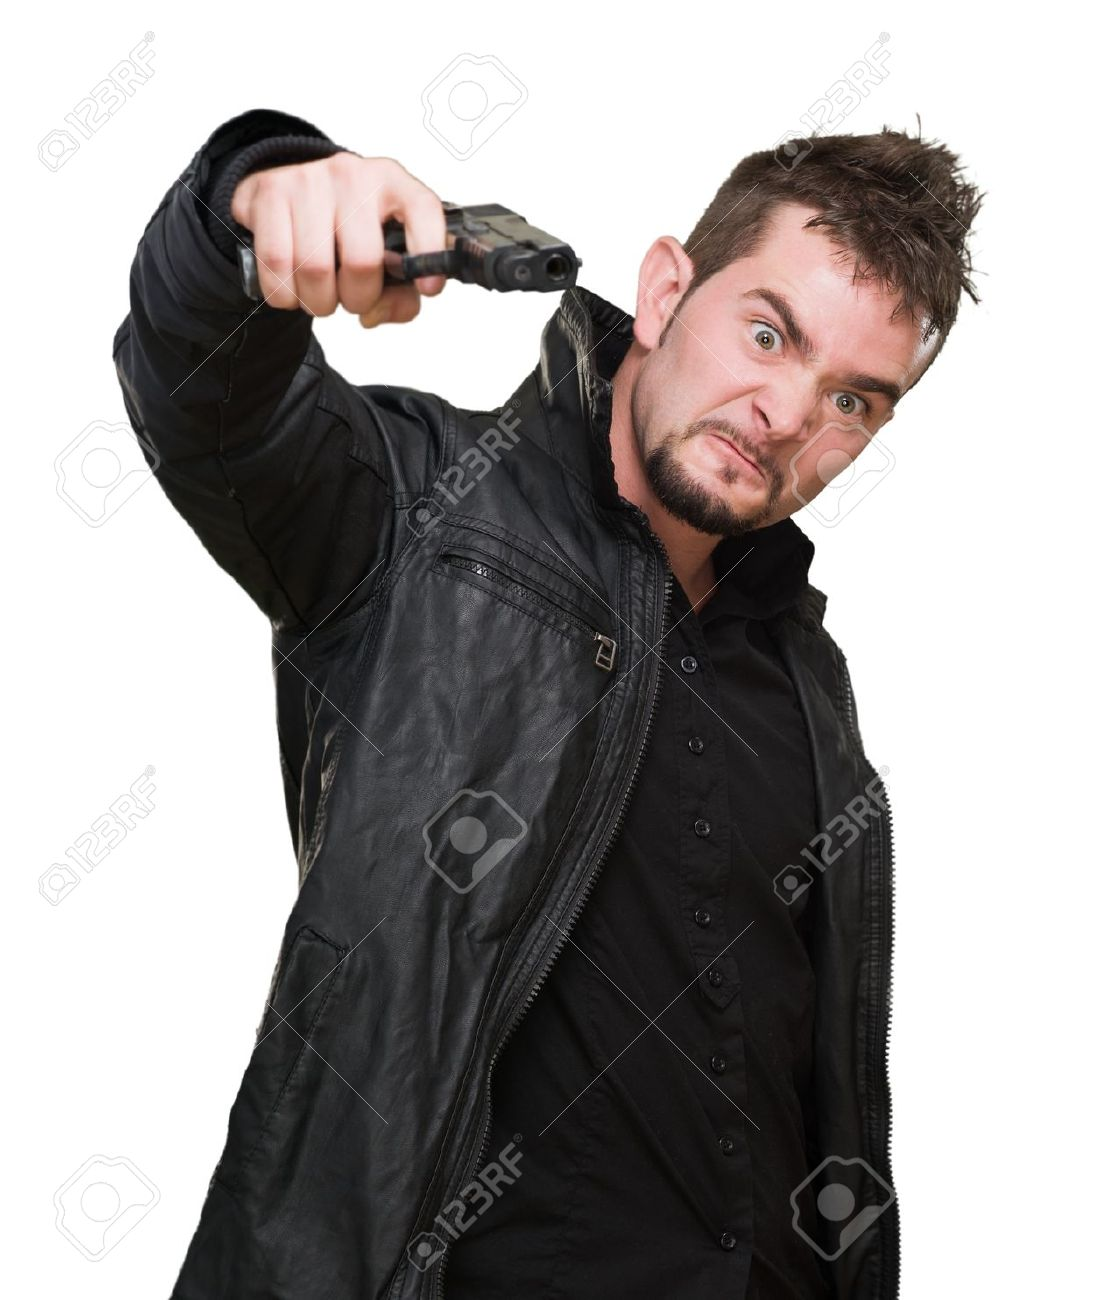pistol: (231, 201, 583, 298)
